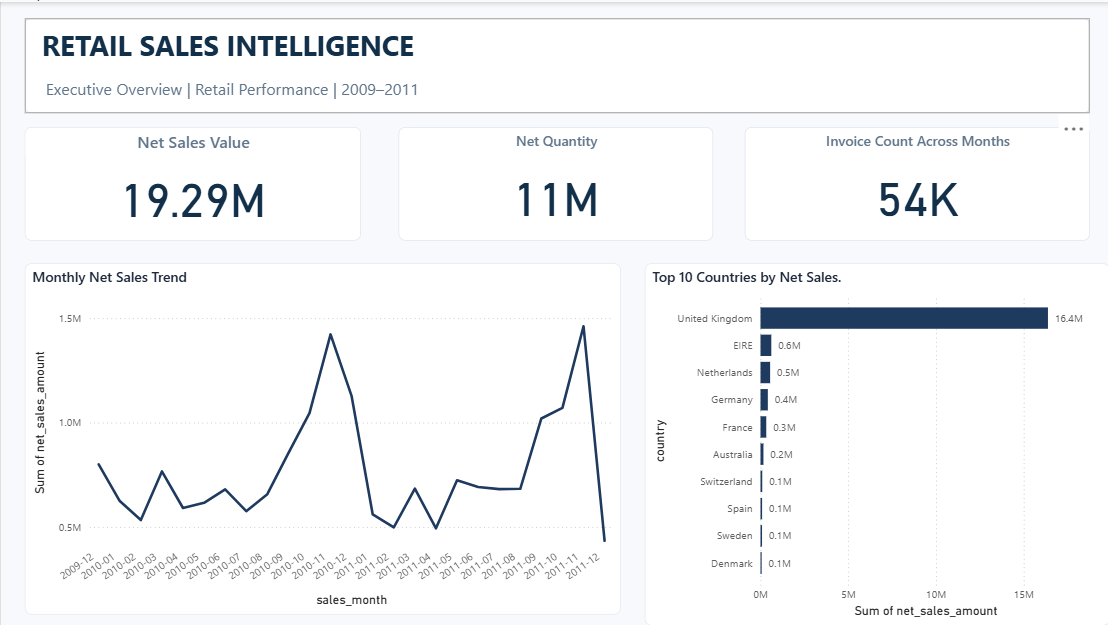

This screenshot's page, from the dashboard's own definition file:
{"tool":"powerbi","page":{"name":"Executive Overview","canvas":[1280,720],"ordinal":0},"visuals":[{"type":"card","title":"Net Sales Value","fields":{"Values":["Sum(gold_retail_monthly_sales.net_sales_amount)"]},"box":[0,71,300.1,130.7],"z":0},{"type":"card","title":"Net Quantity","fields":{"Values":["Sum(gold_retail_monthly_sales.net_quantity)"]},"box":[0,251.5,273.9,137],"z":1},{"type":"card","title":"Invoice Count Across Months","fields":{"Values":["Sum(gold_retail_monthly_sales.distinct_invoices)"]},"box":[0,458.2,300.1,149.4],"z":2},{"type":"lineChart","fields":{"Category":["gold_retail_monthly_sales.sales_month"],"Y":["Sum(gold_retail_monthly_sales.net_sales_amount)"]},"box":[355.6,42.7,924.4,317.2],"z":3},{"type":"clusteredBarChart","title":"Top 10 Countries by Net Sales.","fields":{"Category":["gold_retail_country_sales.country"],"Y":["Sum(gold_retail_country_sales.net_sales_amount)"]},"box":[405.9,371.1,874.1,307.5],"z":4}]}

Visuals, with their boxes in screenshot pixels (x1, y1, x2, y2), scaled from the page's 1280x720 canvas onto the 1108x625 screenshot:
"Net Sales Value" card: {"left": 0, "top": 62, "right": 260, "bottom": 175}
"Net Quantity" card: {"left": 0, "top": 218, "right": 237, "bottom": 337}
"Invoice Count Across Months" card: {"left": 0, "top": 398, "right": 260, "bottom": 527}
lineChart - gold_retail_monthly_sales.sales_month x Sum(gold_retail_monthly_sales.net_sales_amount): {"left": 308, "top": 37, "right": 1107, "bottom": 312}
"Top 10 Countries by Net Sales." clusteredBarChart: {"left": 351, "top": 322, "right": 1107, "bottom": 589}
